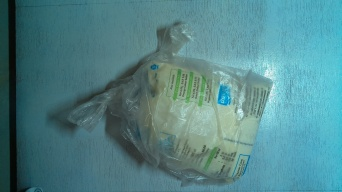m: (130, 52, 272, 184)
